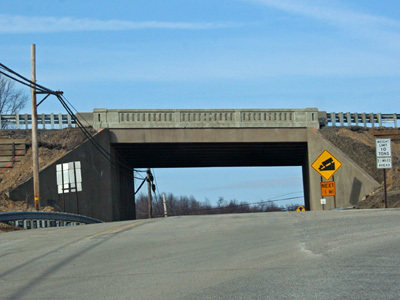bridge: (1, 107, 382, 208)
